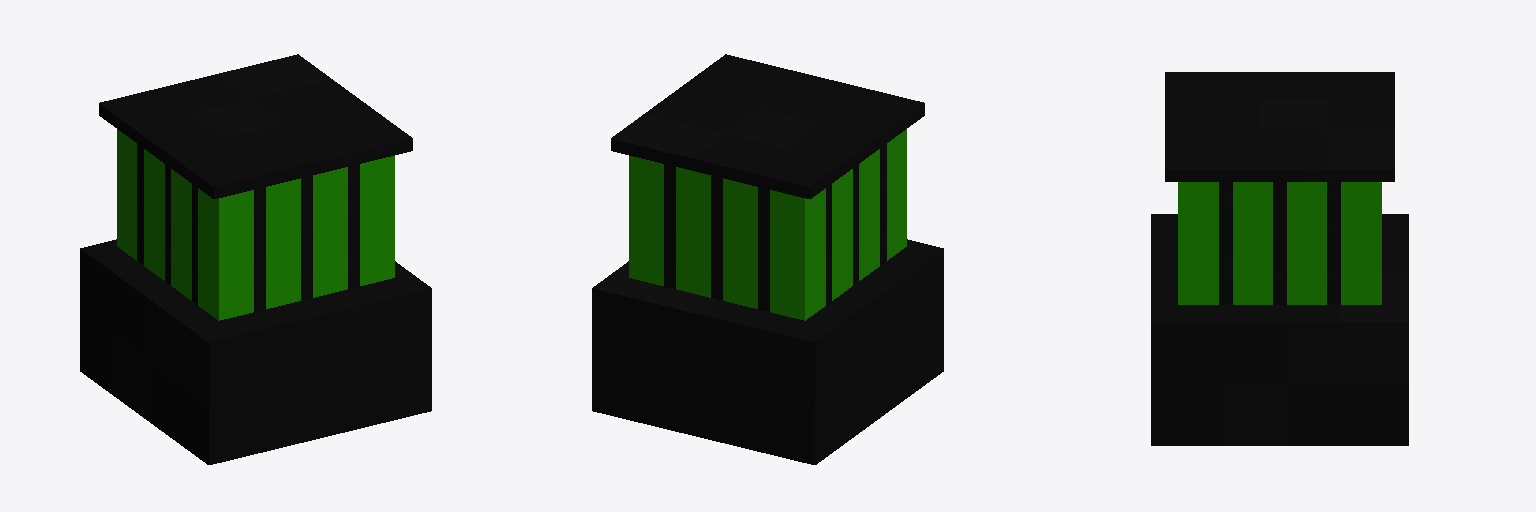
The picture shows the model from 3 angles: view 1: azimuth 30°, elevation 25°; view 2: azimuth 150°, elevation 25°; view 3: azimuth 270°, elevation 25°; orthographic projection.
Parts seen in each view (by area): view 1: cube; view 2: cube; view 3: cube.
Part boxes in pixels (x1,y1,x2,y2): cube: (80, 54, 431, 464); cube: (592, 54, 943, 464); cube: (1151, 72, 1408, 445).
Bounding box in the file's own units: 0.2375 × 0.275 × 0.2375.
3 materials, 2 textured.